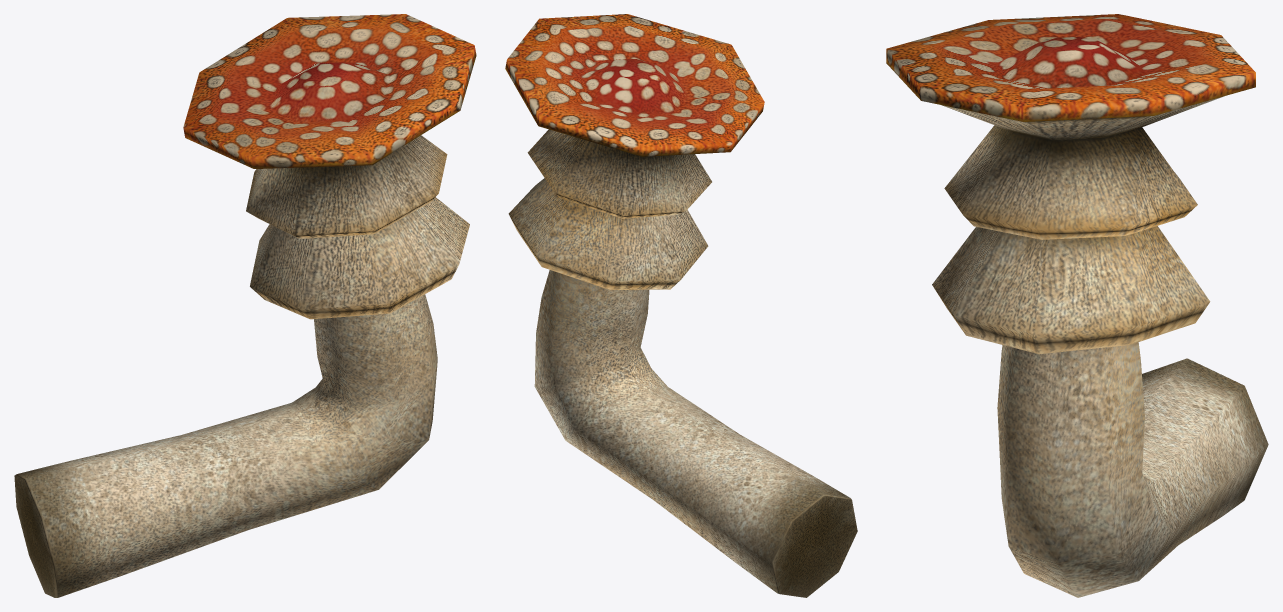
File: HEAD_MUSHROOM.fbx
3 views of the same model, side by side, from view 1: azimuth 30°, elevation 25°; view 2: azimuth 150°, elevation 25°; view 3: azimuth 270°, elevation 25° (orthographic). The views are drawn at different scales.
Parts seen in each view (by area): view 1: HEAD_MUSHROOM; view 2: HEAD_MUSHROOM; view 3: HEAD_MUSHROOM.
Part boxes in pixels (x1,y1,x2,y2): HEAD_MUSHROOM: [14, 14, 476, 597]; HEAD_MUSHROOM: [505, 14, 857, 597]; HEAD_MUSHROOM: [886, 14, 1268, 597].
Size of the model in its own units: 0.0077 by 0.0095 by 0.00521.
